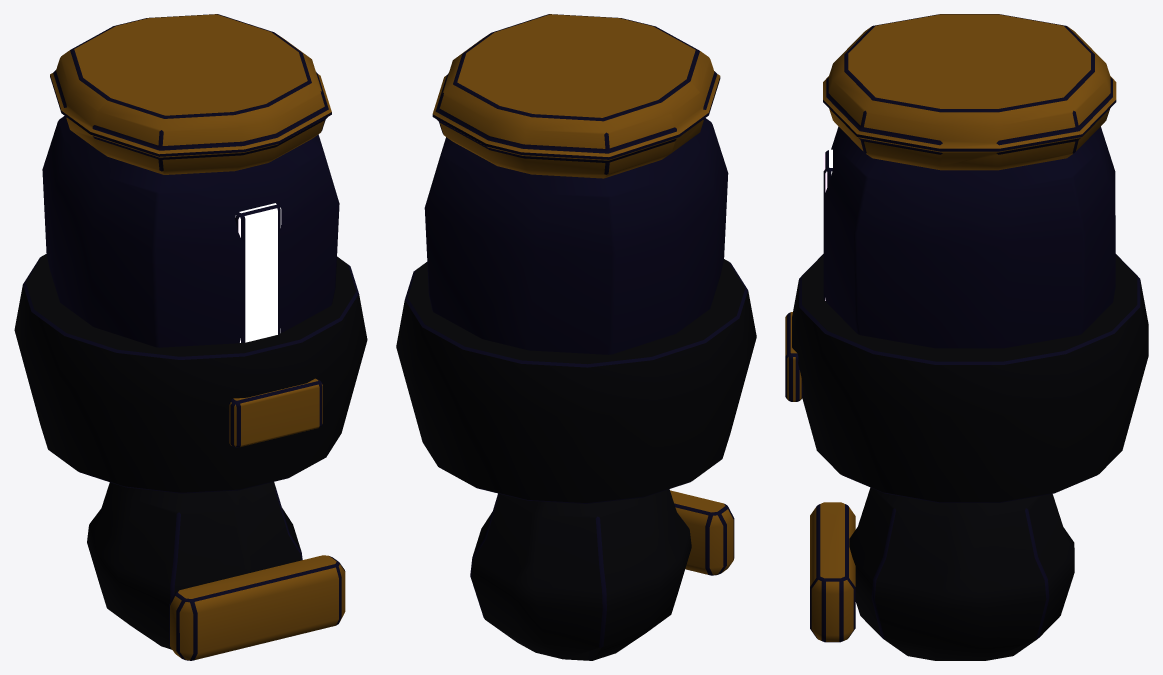
The model's file is Veu_LuvaR.fbx.
3 renders of one model, left to right at view 1: azimuth 30°, elevation 25°; view 2: azimuth 150°, elevation 25°; view 3: azimuth 270°, elevation 25°, orthographic. The views are drawn at different scales.
Visible parts, largest first — view 1: Piece; view 2: Piece; view 3: Piece.
Part boxes in pixels (x1,y1,x2,y2): Piece: (14, 14, 367, 660); Piece: (396, 14, 756, 660); Piece: (785, 14, 1148, 660).
Size of the model in its own units: 0.1962 by 0.3488 by 0.1991.
